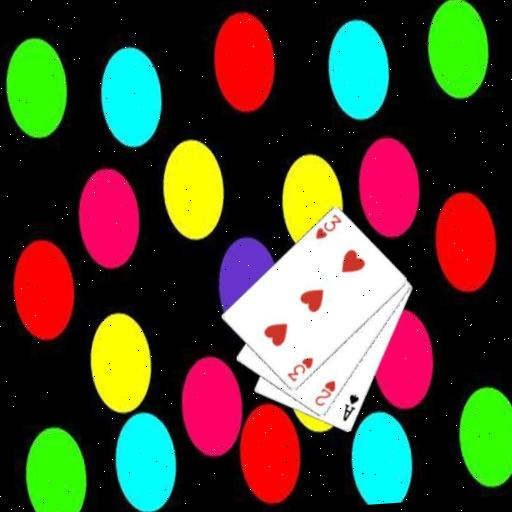2H: (310, 377, 339, 409)
3H: (311, 211, 344, 242), (283, 354, 316, 384)
AS: (337, 391, 362, 424)
